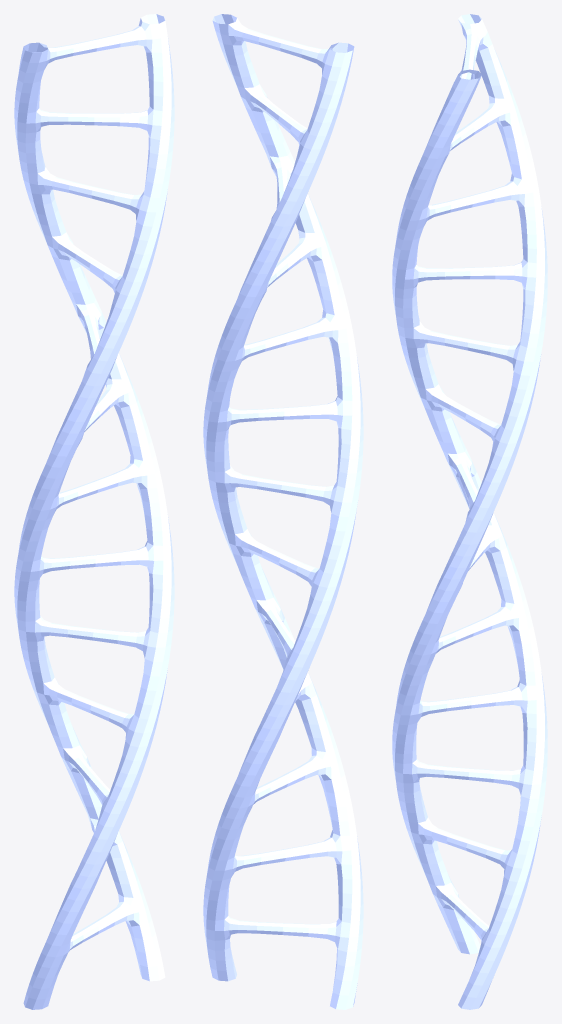
File: dna-2.glb
3 views of the same model, side by side, from view 1: azimuth 30°, elevation 25°; view 2: azimuth 150°, elevation 25°; view 3: azimuth 270°, elevation 25° (orthographic). The views are drawn at different scales.
Visible parts, largest first — view 1: two-applied; view 2: two-applied; view 3: two-applied.
Part boxes in pixels (x1,y1,x2,y2): two-applied: [14, 14, 174, 1009]; two-applied: [203, 14, 363, 1009]; two-applied: [392, 14, 547, 1009].
Size of the model in its own units: 1.64 by 10.79 by 1.64.
